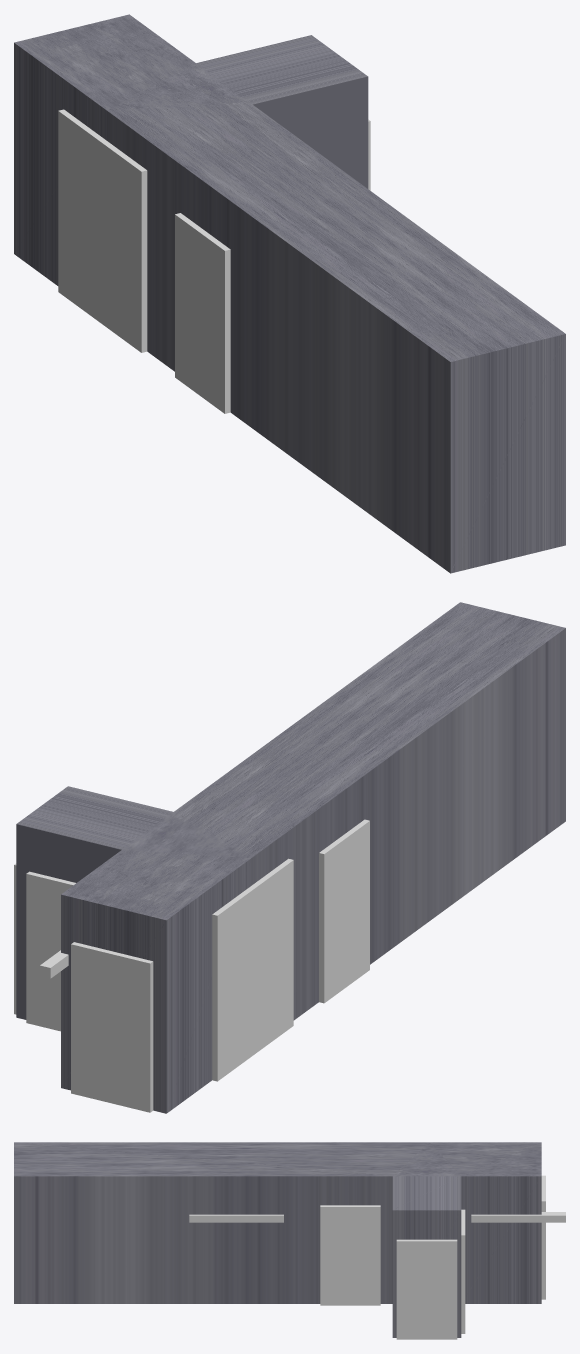
Rendered from Couloir.fbx.
3 views of the same model, one above another, from view 1: azimuth 30°, elevation 25°; view 2: azimuth 150°, elevation 25°; view 3: azimuth 270°, elevation 25° (orthographic). The views are drawn at different scales.
Visible parts, largest first — view 1: Couloir, Cube.002, Cube.024; view 2: Couloir, Cube.002, Cube.026, Cube.024, Cube.029; view 3: Couloir, Cube.028, Cube.027, Cube.032, Cube.031, Cube.029, Cube.026.
Boxes of the visible parts, x1,y1,x2,y2 form: Couloir: (14, 14, 565, 573); Cube.002: (58, 109, 147, 352); Cube.024: (175, 213, 230, 413); Couloir: (16, 602, 565, 1113); Cube.002: (212, 858, 293, 1081); Cube.026: (71, 942, 153, 1112); Cube.024: (319, 819, 369, 1003); Cube.029: (26, 871, 75, 1031); Couloir: (14, 1142, 541, 1337); Cube.028: (396, 1239, 457, 1339); Cube.027: (320, 1205, 380, 1305); Cube.032: (471, 1212, 565, 1222); Cube.031: (189, 1214, 283, 1222); Cube.029: (461, 1209, 465, 1333); Cube.026: (541, 1175, 545, 1299).
Size of the model in its own units: 840 by 700 by 2739.
